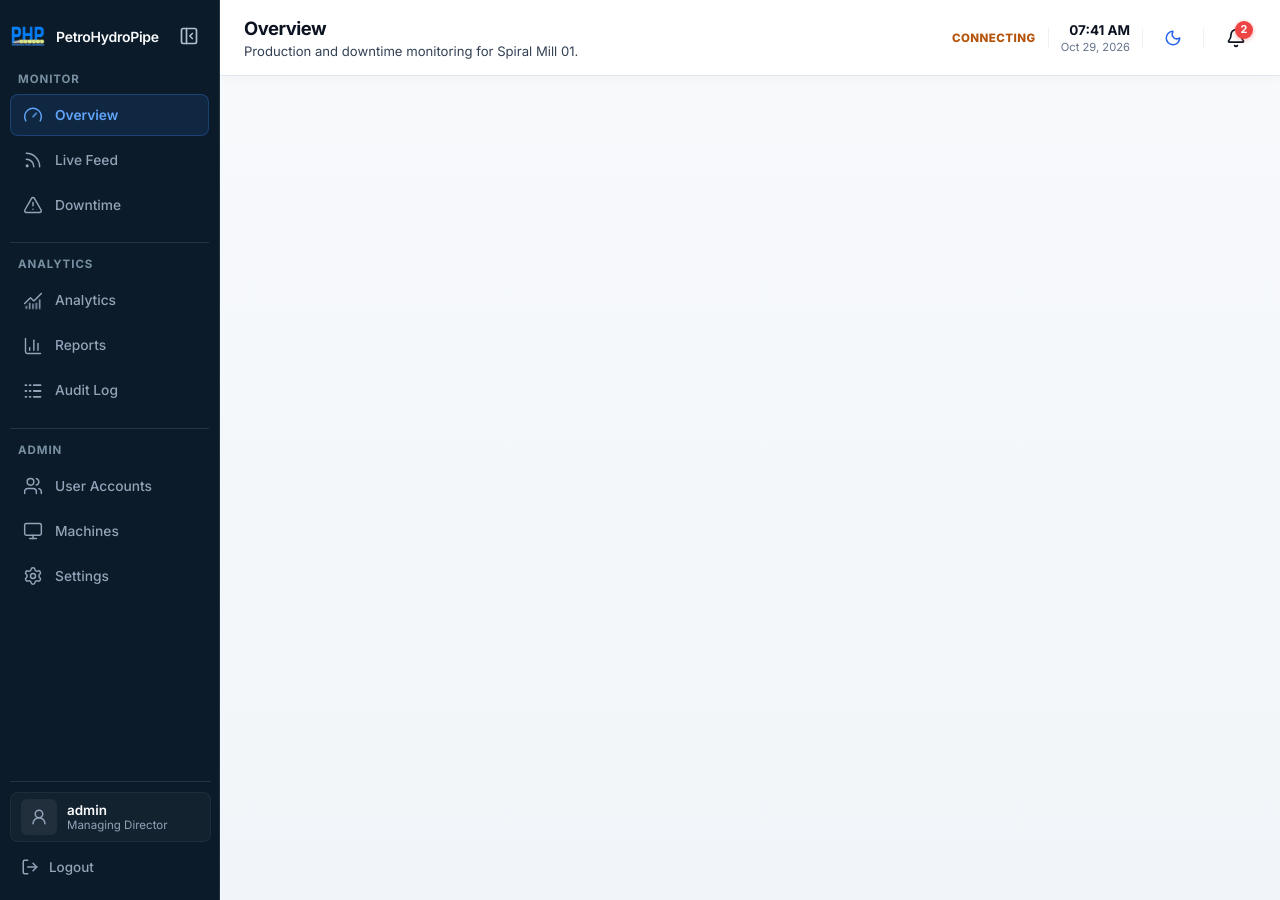
Test case: AdminDashboard alerts › distinguishes downtime notifications from sensor fault notifications
Click the button named "open alerts, 2 active" at (1236, 38), box [1216, 18, 1256, 58]
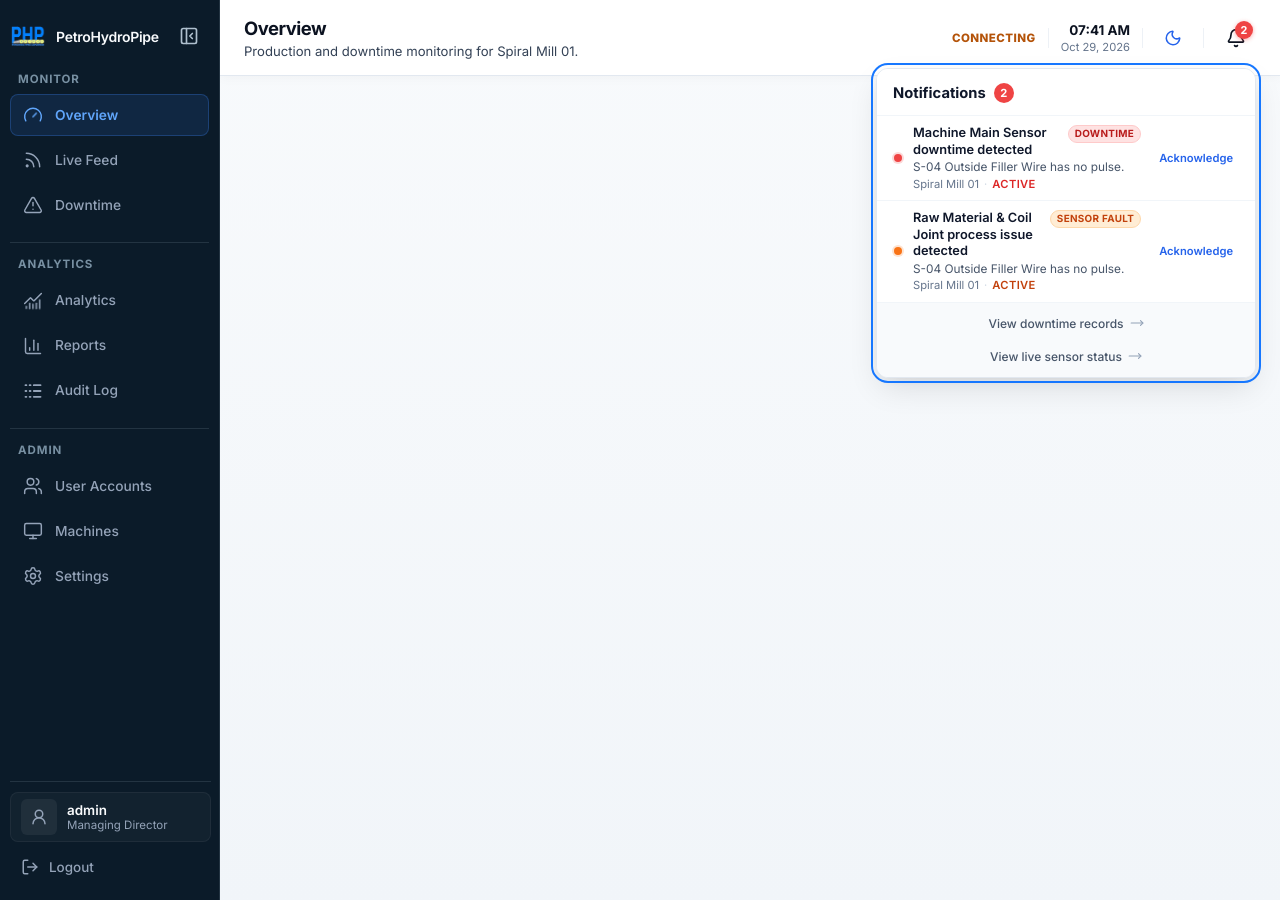
Now the text "Downtime" next to "Machine Main Sensor downtime detected" is shown, box [1075, 126, 1134, 138]
Now the text "Sensor fault" is shown, box [1050, 210, 1141, 228]
